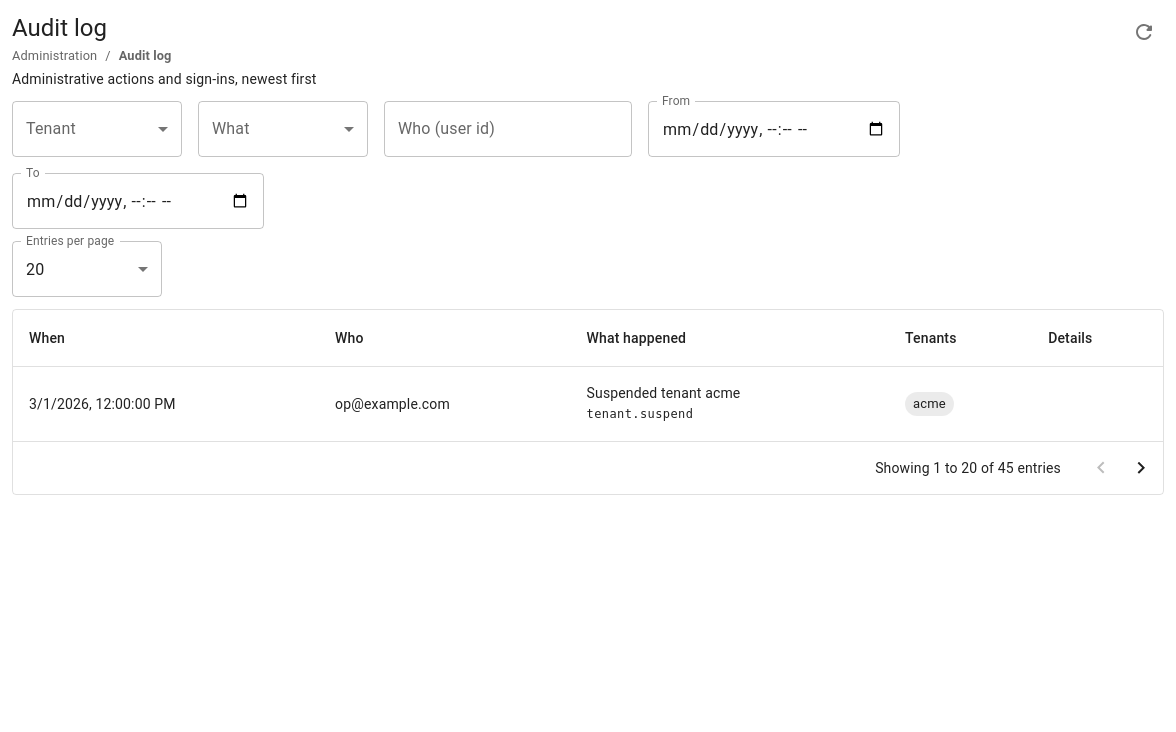
Scenario: AuditPage › drops an old error as soon as it steps back from a page that no longer exists
Expected: the text "Suspended tenant acme" is shown, [586,385,740,401]
Click the button named "next page".
click(1141, 468)  # box [1121,448,1161,488]
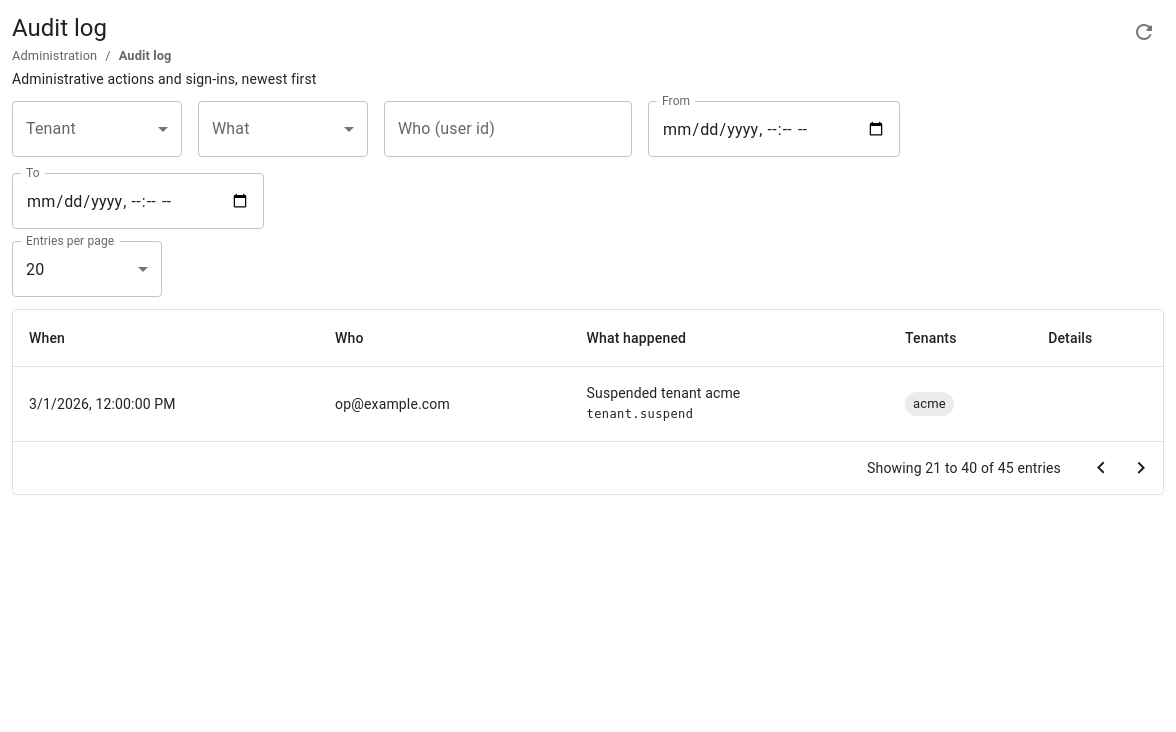
Click the button named "Refresh".
click(1144, 32)  # box [1124,12,1164,52]
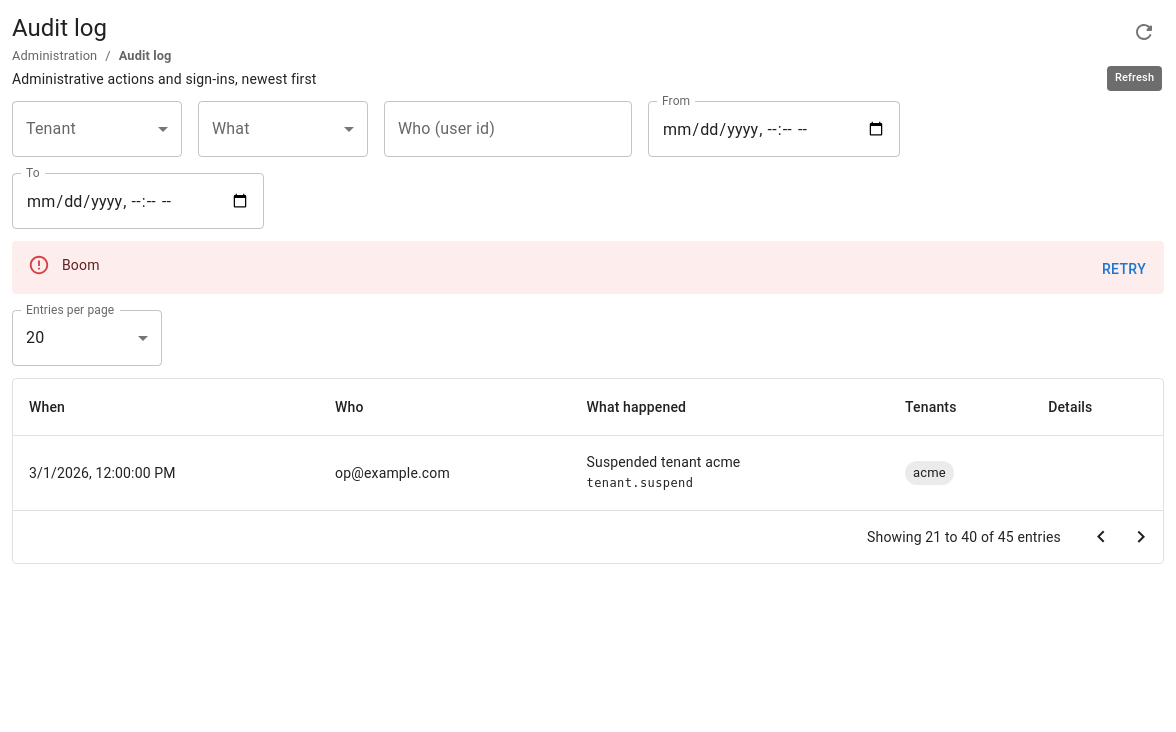
Now the text "Boom" is shown, box [62,257,100,273]
Click the button "Retry".
click(1124, 269)  # box [1092,251,1156,288]
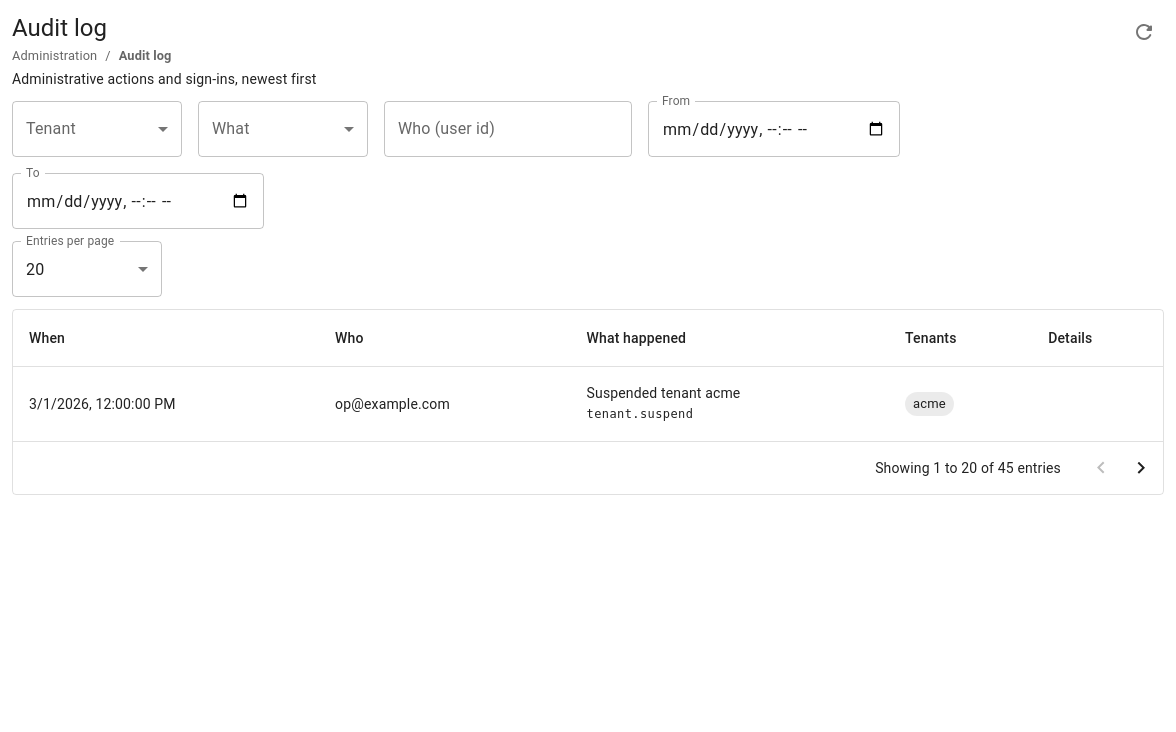
Now the text "Boom" is gone
